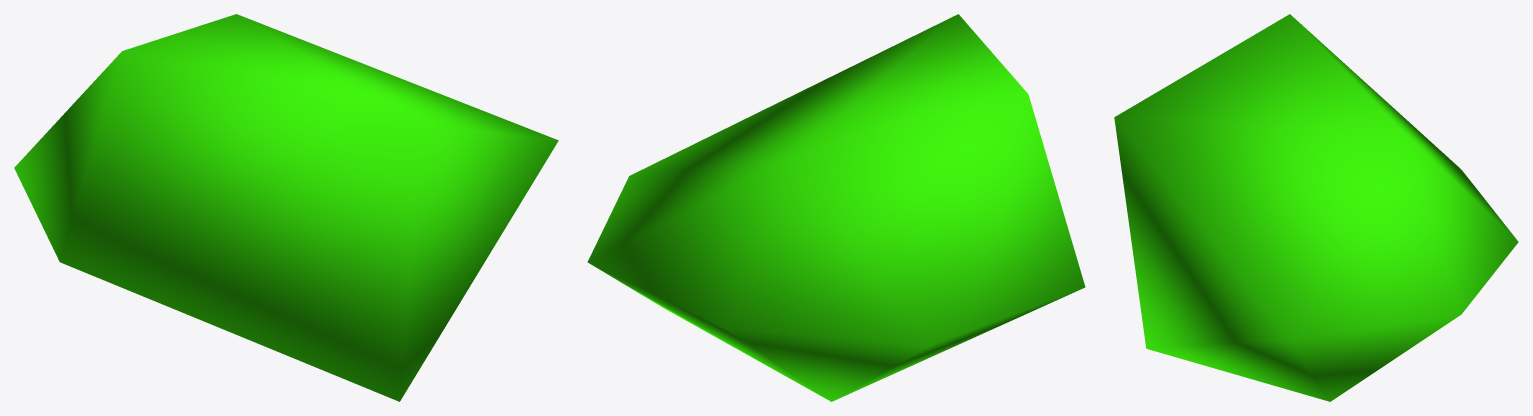
Rendered from Seed.FBX.
3 views of the same model, side by side, from view 1: azimuth 30°, elevation 25°; view 2: azimuth 150°, elevation 25°; view 3: azimuth 270°, elevation 25° (orthographic). The views are drawn at different scales.
Visible parts, largest first — view 1: Seed; view 2: Seed; view 3: Seed.
Boxes of the visible parts, bbox=[...] form: Seed: bbox=[14, 14, 558, 401]; Seed: bbox=[587, 14, 1085, 401]; Seed: bbox=[1114, 14, 1518, 401].
Bounding box in the file's own units: 35.04 × 24.25 × 30.97.
1 material, 1 textured.
